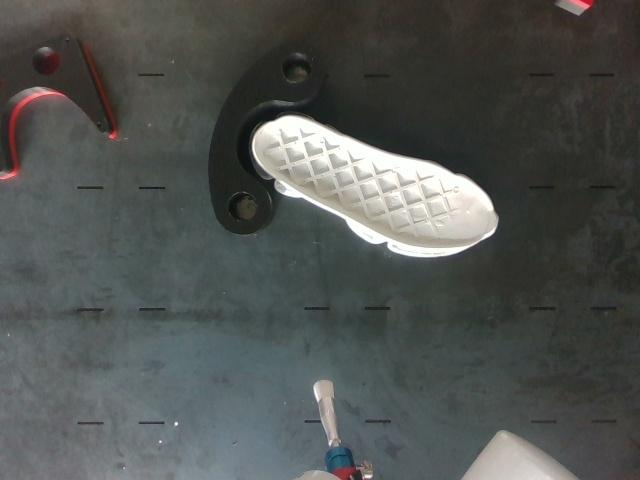shoes: (254, 114, 497, 248)
